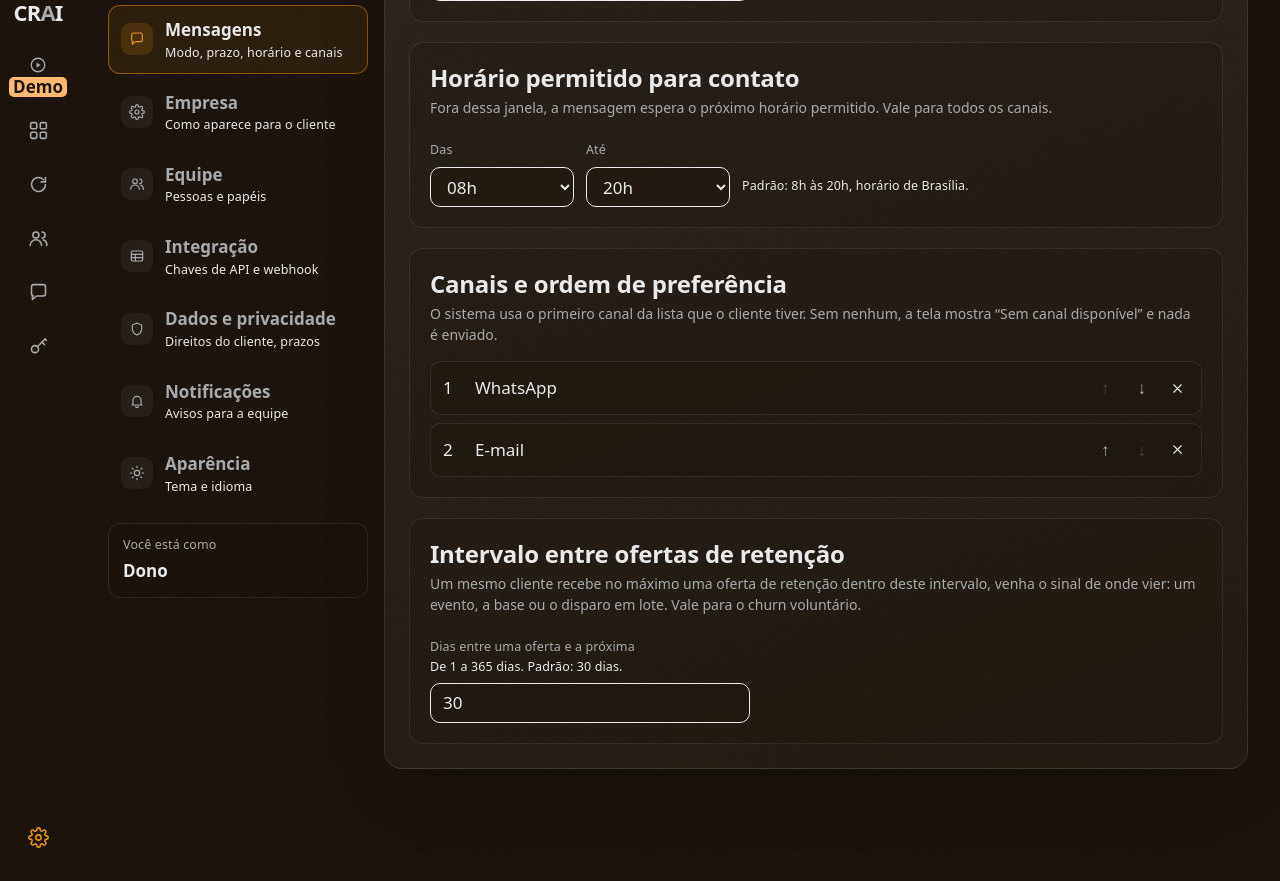
Test case: configuração: o intervalo entre ofertas › valor fora da regra (0) não deixa salvar e avisa
(page scrolled)
expect the heading "Intervalo entre ofertas de retenção" is shown: met, box [430,536,845,570]
Replace the text in the number field with "0" at x=590, y=703, box [430,683,750,723]
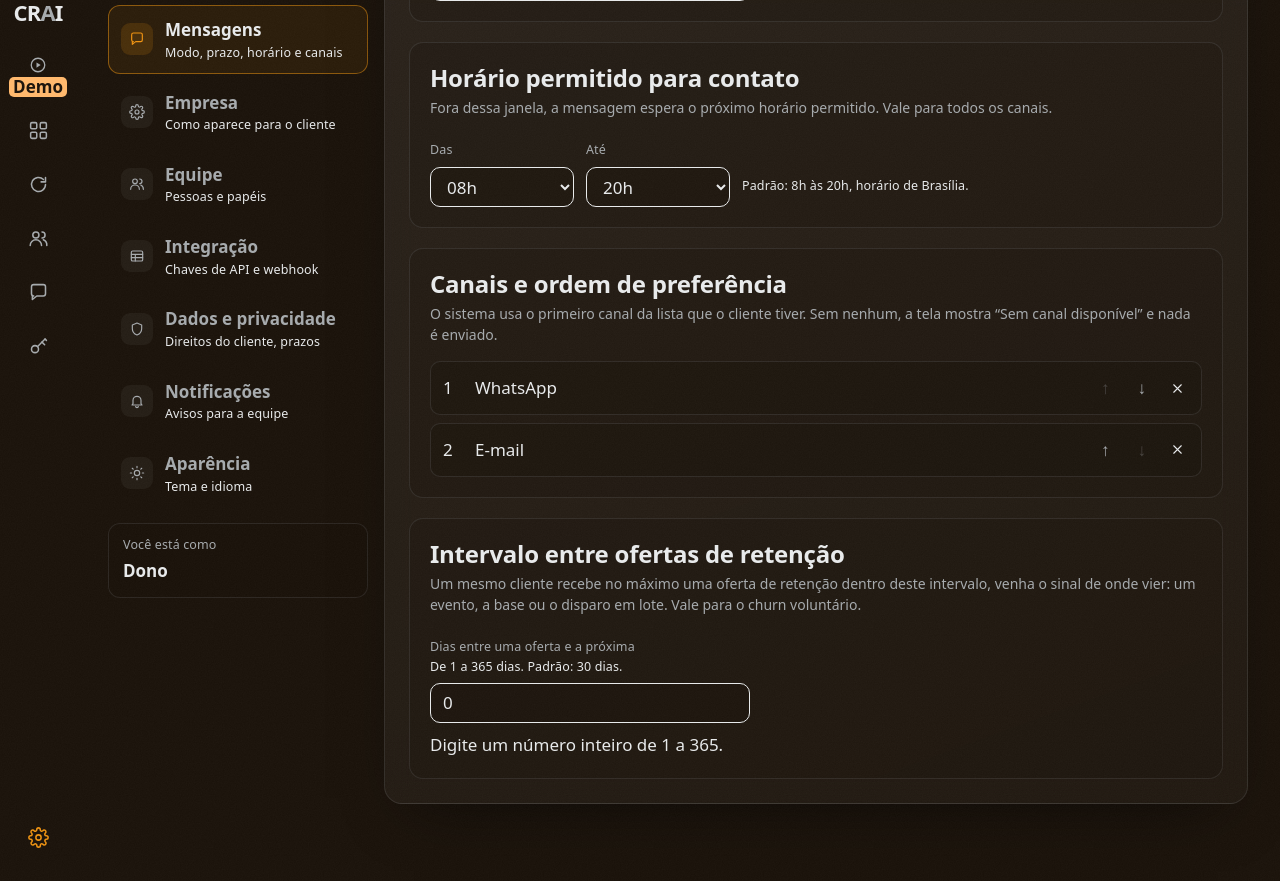
expect the message reads "Digite um número inteiro de 1 a 365.": met, box [430,733,723,756]
